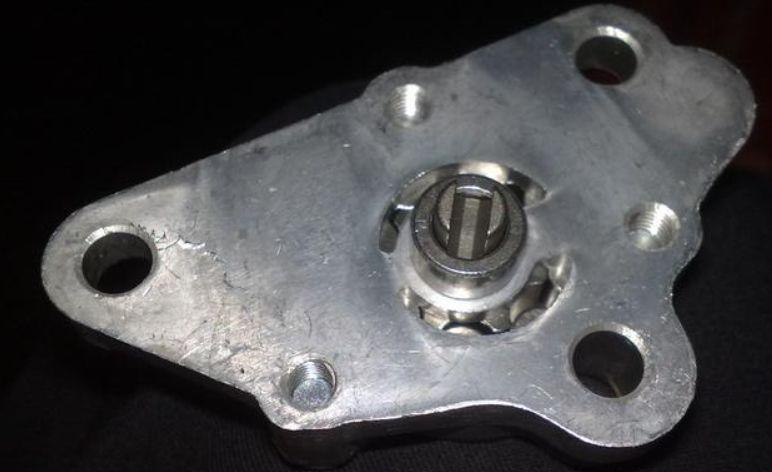automobile: (38, 4, 759, 456)
